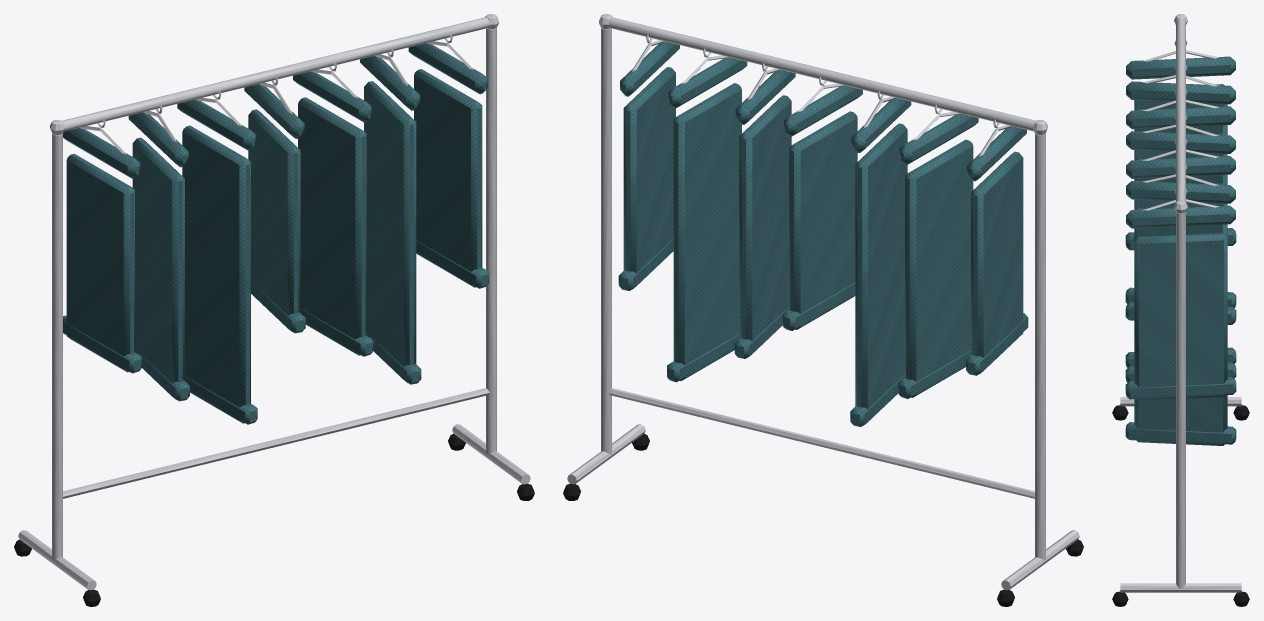
File: arara-16-7.glb
The picture shows the model from 3 angles, left to right: view 1: azimuth 30°, elevation 25°; view 2: azimuth 150°, elevation 25°; view 3: azimuth 270°, elevation 25°; orthographic projection. The views are drawn at different scales.
Parts seen in each view (by area): view 1: corpo.002, corpo.004, corpo.005, corpo, corpo.006, corpo.001, corpo.003, varao, coluna, coluna.001, travessa, ombros.006 (+15 smaller); view 2: corpo.005, corpo.001, corpo.002, corpo.003, corpo.004, corpo, corpo.006, varao, coluna, coluna.001, travessa, ombros.005 (+15 smaller); view 3: corpo.006, corpo.005, coluna.001, ombros.006, ombros, ombros.001, varao, ombros.002, ombros.005, ombros.003, ombros.004, barra.005 (+13 smaller).
Part boxes in pixels (<box>): corpo.002: <box>182,125,250,423</box>; corpo.004: <box>298,97,366,355</box>; corpo.005: <box>364,81,416,382</box>; corpo: <box>66,153,134,372</box>; corpo.006: <box>414,69,482,287</box>; corpo.001: <box>132,137,184,399</box>; corpo.003: <box>248,109,300,331</box>; varao: <box>62,17,489,131</box>; coluna: <box>52,133,62,560</box>; coluna.001: <box>486,27,496,454</box>; travessa: <box>62,388,489,498</box>; ombros.006: <box>408,43,487,94</box>; corpo.005: <box>673,83,741,380</box>; corpo.001: <box>905,139,973,397</box>; corpo.002: <box>855,123,907,425</box>; corpo.003: <box>789,111,857,329</box>; corpo.004: <box>739,95,791,357</box>; corpo: <box>971,151,1023,374</box>; corpo.006: <box>623,67,675,289</box>; varao: <box>608,17,1035,131</box>; coluna: <box>1035,133,1045,560</box>; coluna.001: <box>601,27,611,454</box>; travessa: <box>608,388,1035,498</box>; ombros.005: <box>668,57,747,108</box>; corpo.006: <box>1134,233,1227,400</box>; corpo.005: <box>1134,208,1227,445</box>; coluna.001: <box>1176,212,1185,588</box>; ombros.006: <box>1126,205,1235,228</box>; ombros: <box>1126,56,1235,79</box>; ombros.001: <box>1126,81,1235,104</box>; varao: <box>1176,18,1185,201</box>; ombros.002: <box>1126,106,1235,129</box>; ombros.005: <box>1126,181,1235,203</box>; ombros.003: <box>1126,131,1235,153</box>; ombros.004: <box>1126,156,1235,178</box>; barra.005: <box>1125,422,1236,444</box>.
Bounding box in the file's own units: 1.66 × 1.63 × 0.5.
Materials: 3 (2 with a texture image).
